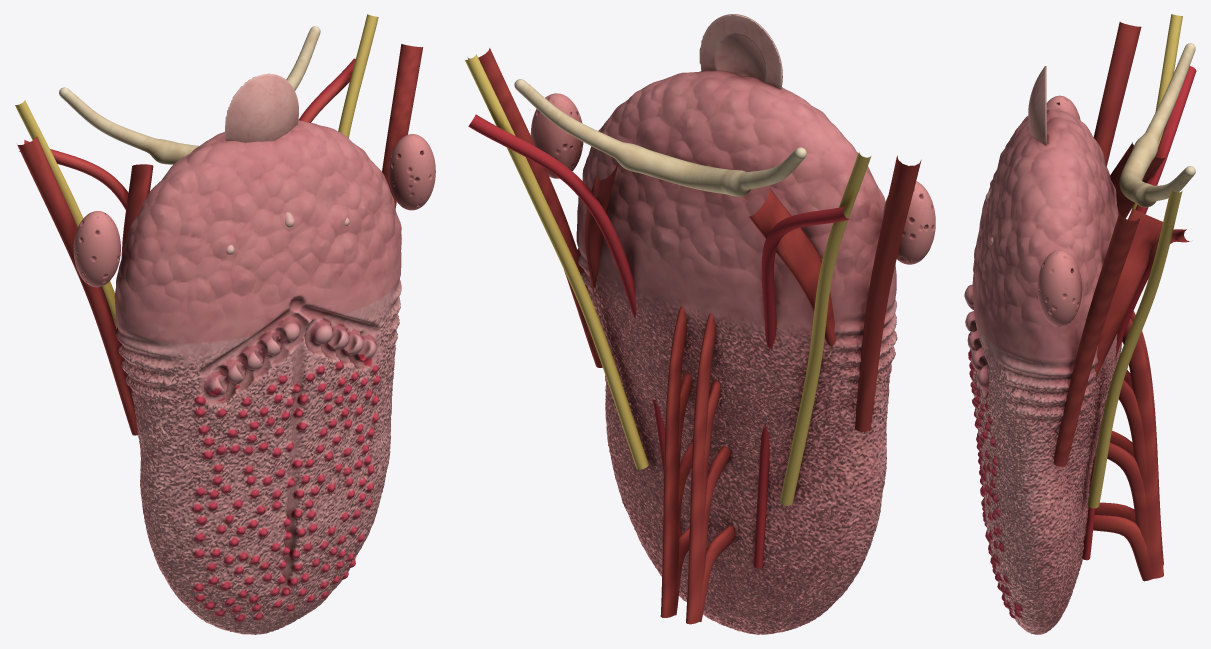
Rendered from tongue.e102c845.glb.
3 views of the same model, side by side, from view 1: azimuth 30°, elevation 25°; view 2: azimuth 150°, elevation 25°; view 3: azimuth 270°, elevation 25° (orthographic). The views are drawn at different scales.
Parts seen in each view (by area): view 1: Tongue, Extrinsic muscles, Palatine tonsils, Epiglottis, Hyoid bone, Hypoglossal nerves, Lingual arteries; view 2: Tongue, Extrinsic muscles, Hypoglossal nerves, Lingual arteries, Hyoid bone, Palatine tonsils, Epiglottis; view 3: Tongue, Extrinsic muscles, Hypoglossal nerves, Hyoid bone, Palatine tonsils, Lingual arteries, Epiglottis.
Part boxes in pixels (left/top/right/bottom): Tongue: left=114, top=120, right=401, bottom=634; Extrinsic muscles: left=17, top=44, right=423, bottom=435; Palatine tonsils: left=73, top=134, right=435, bottom=287; Epiglottis: left=225, top=73, right=349, bottom=254; Hyoid bone: left=59, top=26, right=320, bottom=164; Hypoglossal nerves: left=15, top=14, right=378, bottom=328; Lingual arteries: left=19, top=58, right=355, bottom=209; Tongue: left=576, top=70, right=897, bottom=634; Extrinsic muscles: left=467, top=48, right=921, bottom=624; Hypoglossal nerves: left=465, top=54, right=871, bottom=505; Lingual arteries: left=468, top=114, right=849, bottom=568; Hyoid bone: left=514, top=79, right=806, bottom=196; Palatine tonsils: left=530, top=93, right=935, bottom=264; Epiglottis: left=699, top=14, right=782, bottom=89; Tongue: left=964, top=106, right=1122, bottom=634; Extrinsic muscles: left=1053, top=22, right=1164, bottom=581; Hypoglossal nerves: left=1087, top=14, right=1182, bottom=508; Hyoid bone: left=1119, top=43, right=1195, bottom=207; Palatine tonsils: left=1037, top=95, right=1082, bottom=326; Lingual arteries: left=1082, top=66, right=1196, bottom=560; Epiglottis: left=985, top=66, right=1046, bottom=244.
Bounding box in the file's own units: 2.51 × 3.29 × 1.25.
